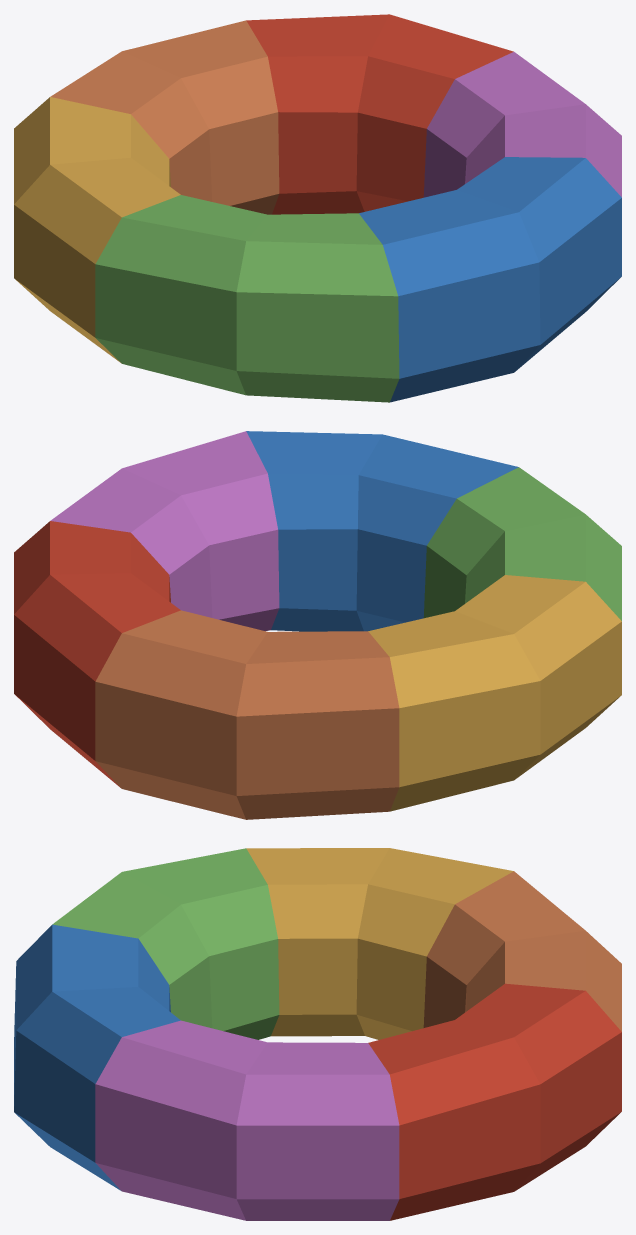
The model's file is SM_Prop_Pool_Float_Ring_02.fbx.
The picture shows the model from 3 angles, top to bottom: view 1: azimuth 30°, elevation 25°; view 2: azimuth 150°, elevation 25°; view 3: azimuth 270°, elevation 25°; orthographic projection.
Parts seen in each view (by area): view 1: SM_Prop_Pool_Float_Ring_02; view 2: SM_Prop_Pool_Float_Ring_02; view 3: SM_Prop_Pool_Float_Ring_02.
Boxes of the visible parts, box(x1,y1,x2,y2) form: SM_Prop_Pool_Float_Ring_02: box(14, 14, 621, 402); SM_Prop_Pool_Float_Ring_02: box(14, 431, 621, 819); SM_Prop_Pool_Float_Ring_02: box(14, 848, 621, 1220).
Bounding box in the file's own units: 111 × 33.24 × 111.
